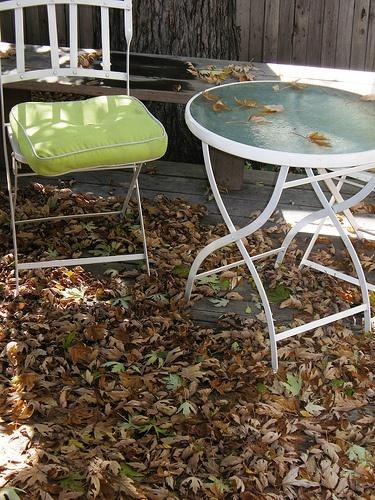chair: (1, 2, 154, 284)
